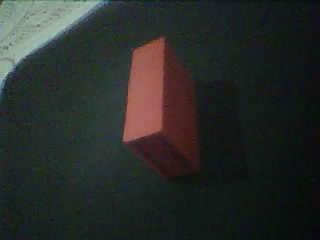lego: (120, 36, 200, 182)
